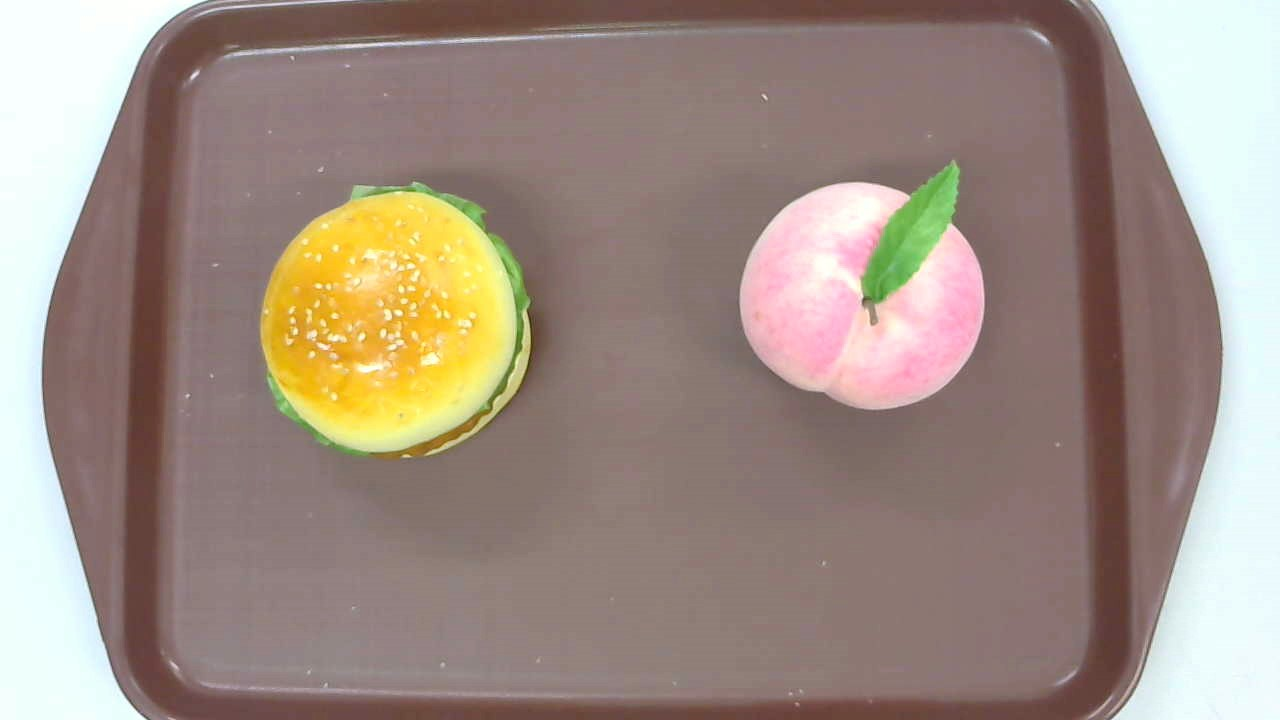hamburger: (260, 181, 535, 460)
peach: (737, 159, 983, 410)
